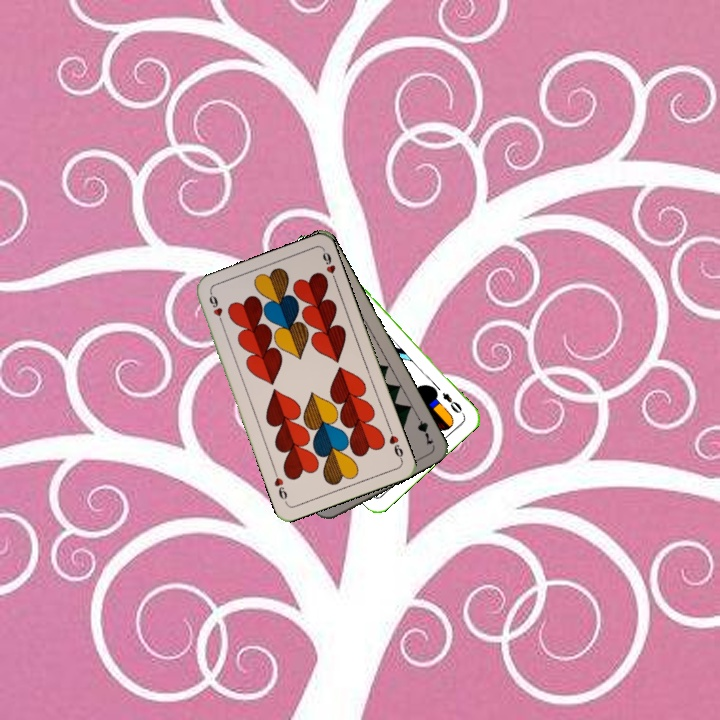EO: (438, 388, 466, 418)
G7: (411, 409, 436, 448)
H9: (385, 424, 406, 463), (205, 289, 226, 328)
